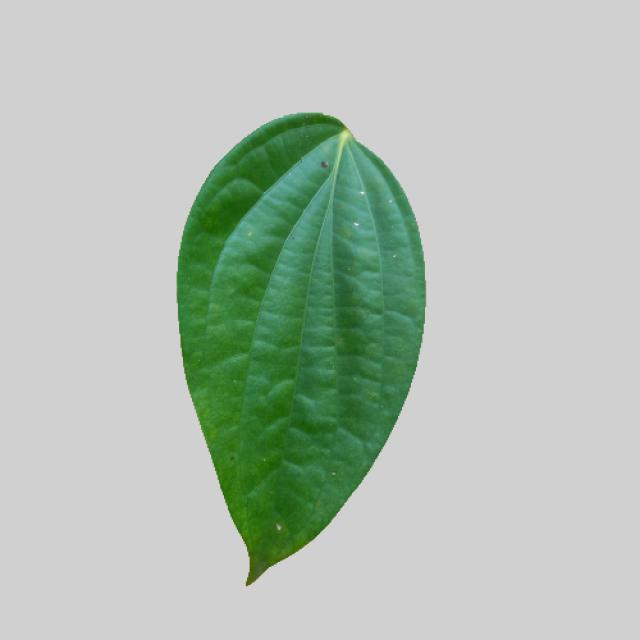healthy: (166, 106, 432, 597)
